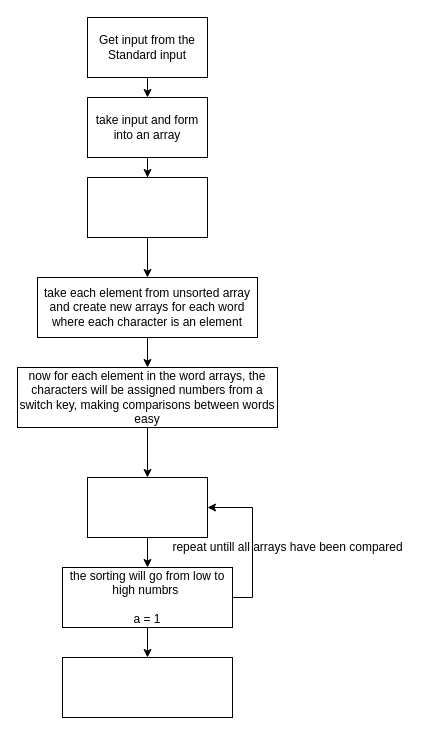
Some shapes in this 430 by 735 pixel diagram are drawn without their labels. Here are the shapes that lost their labels. From the top down, the box of each, then its label:
(86, 176, 208, 238): print unsorted array
(86, 476, 208, 538): compare each array
(62, 656, 232, 718): now you have a sorted list
